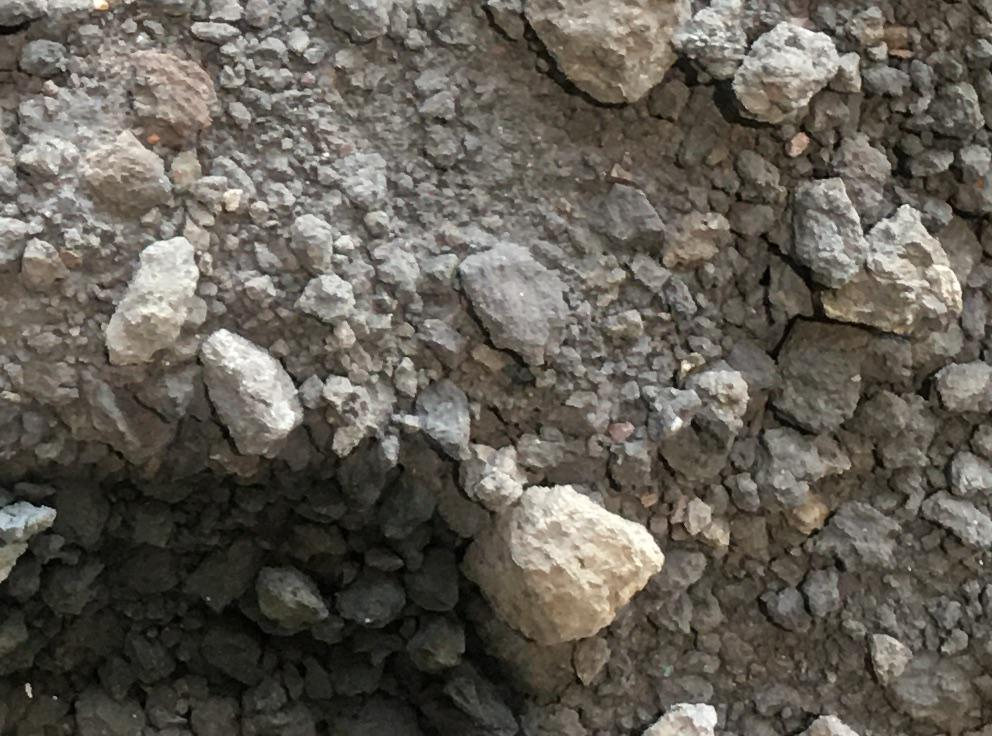block: (453, 486, 663, 649), (819, 198, 964, 338), (508, 1, 690, 106), (199, 329, 304, 464), (107, 237, 198, 376)
